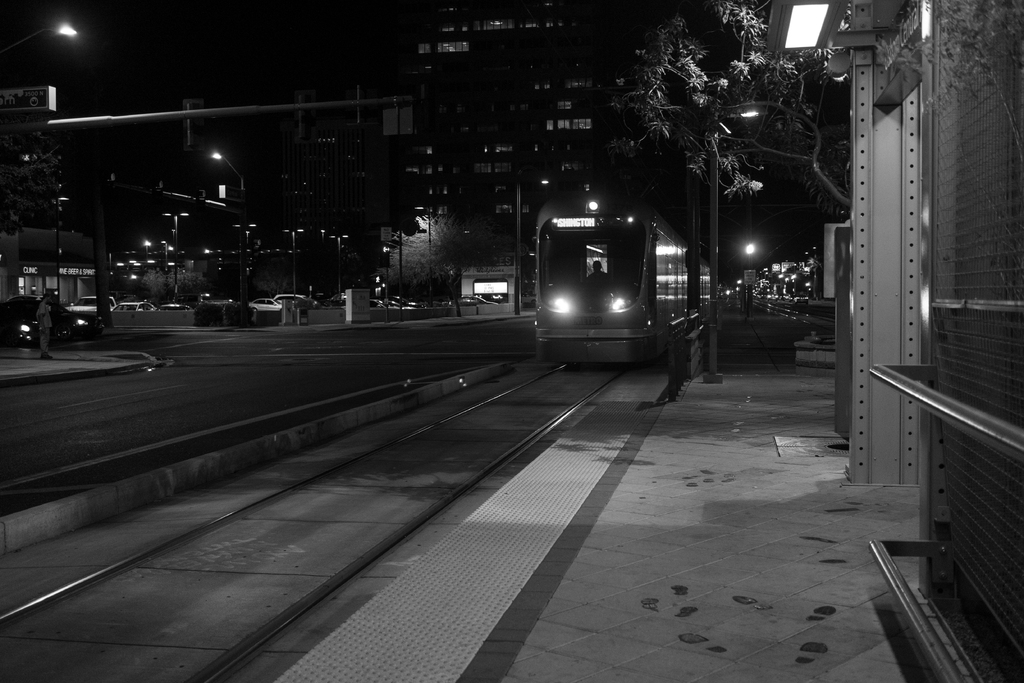Tree: (607, 0, 830, 220)
